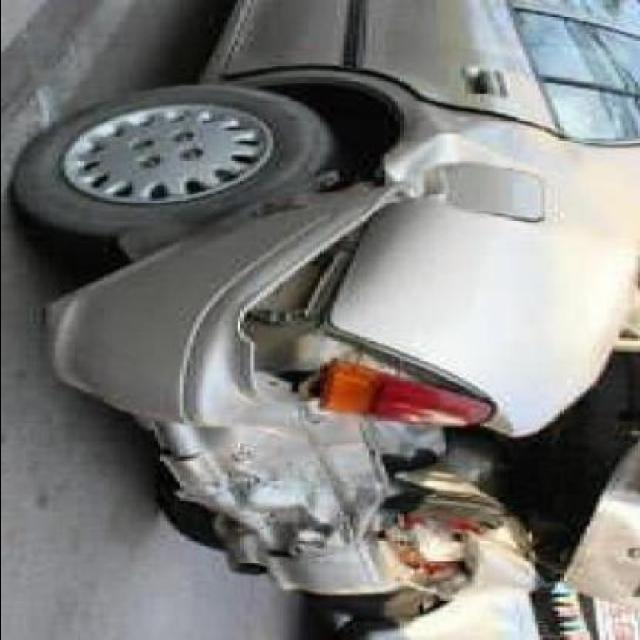quaterpanel-dent: (336, 126, 570, 340)
rear-bumper-dent: (81, 226, 382, 636)
